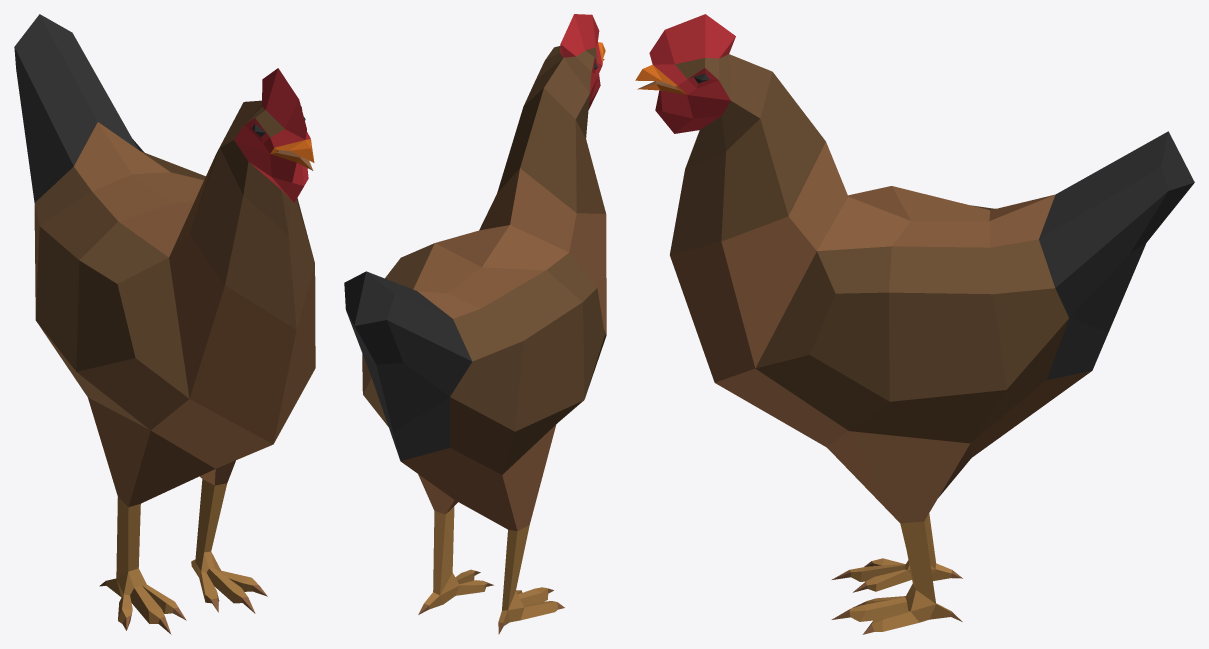
File: hen.glb
3 views of the same model, side by side, from view 1: azimuth 30°, elevation 25°; view 2: azimuth 150°, elevation 25°; view 3: azimuth 270°, elevation 25° (orthographic). The views are drawn at different scales.
Parts seen in each view (by area): view 1: hen; view 2: hen; view 3: hen.
Boxes of the visible parts, left/top/right/bottom form: hen: left=14, top=14, right=315, bottom=634; hen: left=344, top=14, right=606, bottom=634; hen: left=635, top=14, right=1194, bottom=634.
Size of the model in its own units: 0.2027 by 0.5486 by 0.4737.
